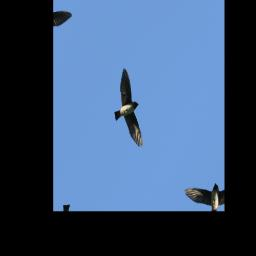Swallow: (100, 68, 163, 151)
